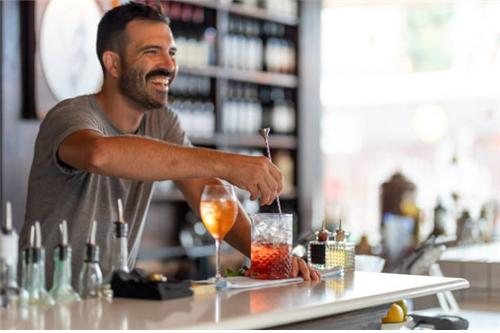alcohol: (200, 182, 237, 291), (249, 211, 287, 284)
